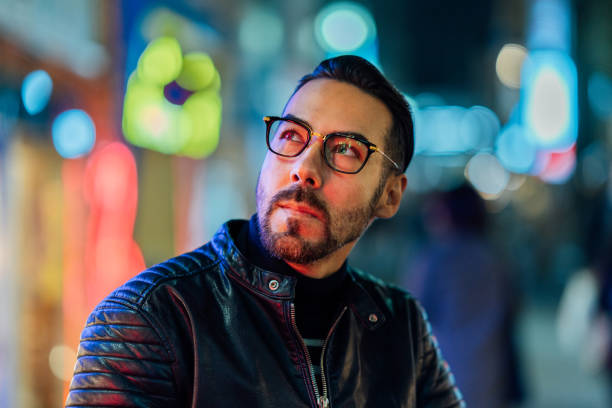face: (263, 109, 381, 263)
